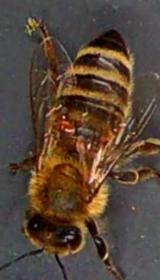varroa_mite: (46, 119, 82, 140)
